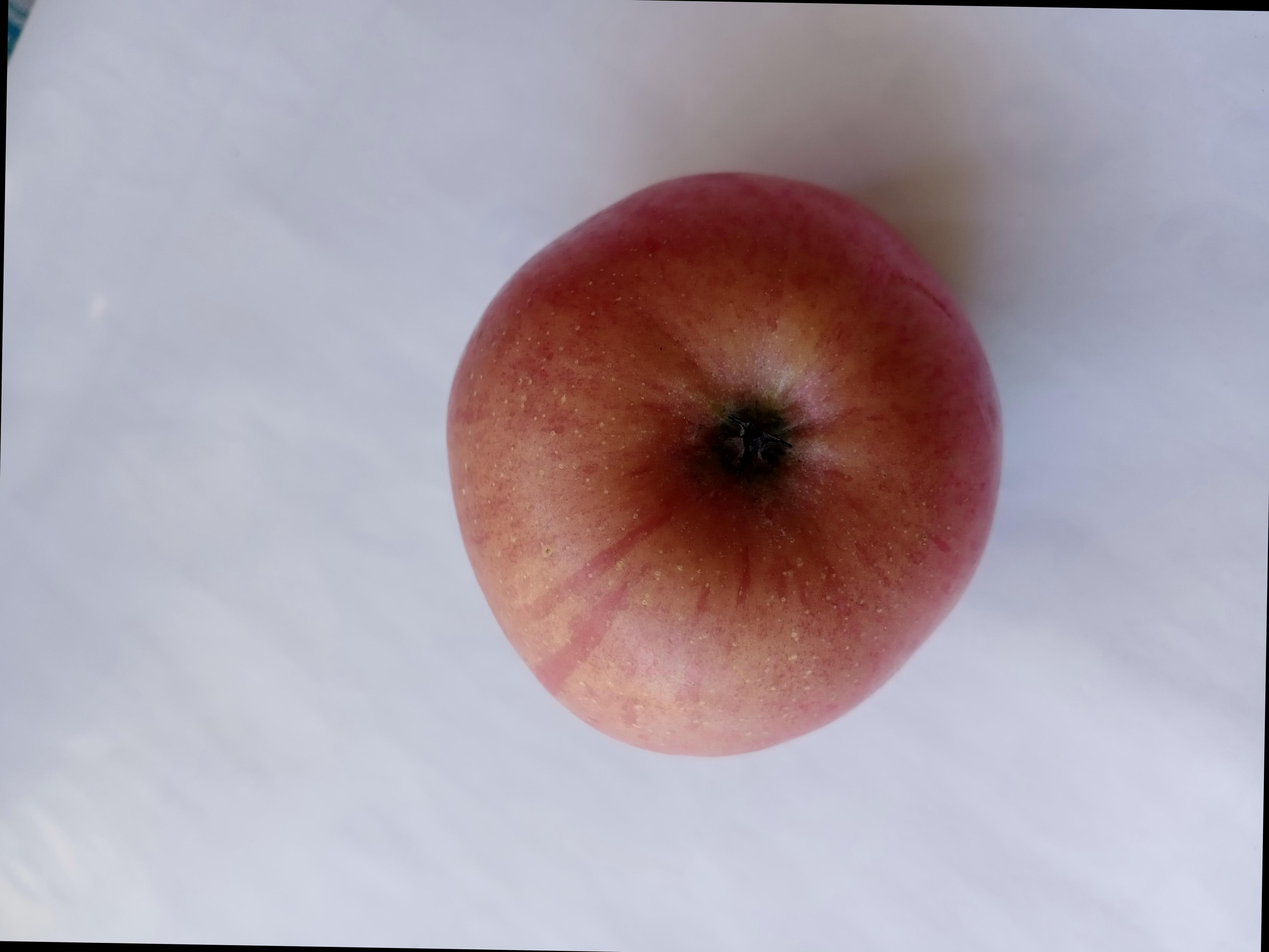Apple Ripe: (419, 145, 1035, 772)
